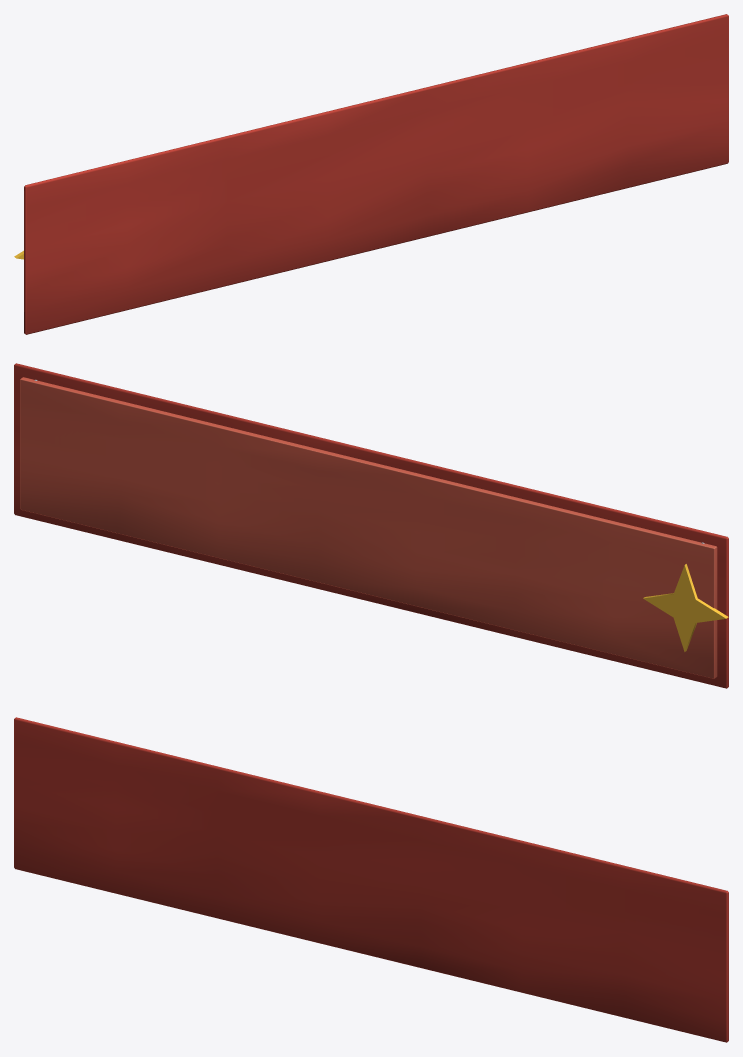
The model's file is SM_Stage4_EffectsSign.fbx.
3 views of the same model, one above another, from view 1: azimuth 30°, elevation 25°; view 2: azimuth 150°, elevation 25°; view 3: azimuth 330°, elevation 25° (orthographic).
Visible parts, largest first — view 1: SM_Stage4_EffectsSign; view 2: SM_Stage4_EffectsSign; view 3: SM_Stage4_EffectsSign.
Boxes of the visible parts, left/top/right/bottom form: SM_Stage4_EffectsSign: left=14, top=14, right=728, bottom=334; SM_Stage4_EffectsSign: left=14, top=363, right=728, bottom=688; SM_Stage4_EffectsSign: left=14, top=717, right=728, bottom=1042.
Bounding box in the file's own units: 517 × 104 × 9.54.
